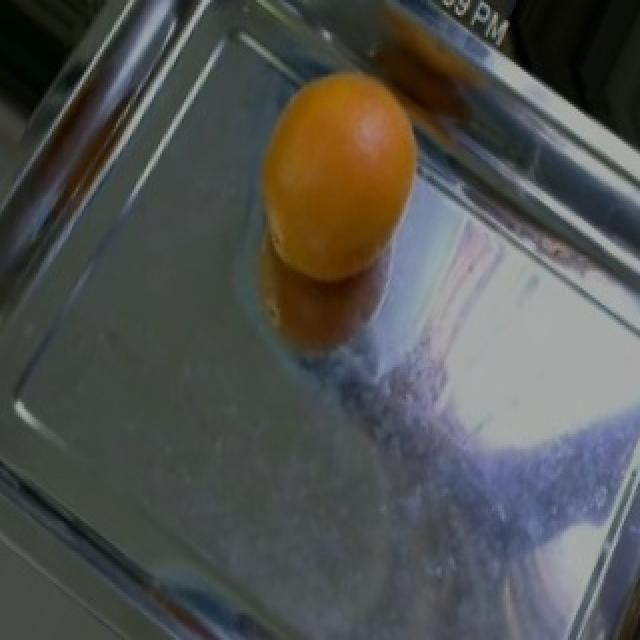Fruit: (248, 50, 442, 302)
